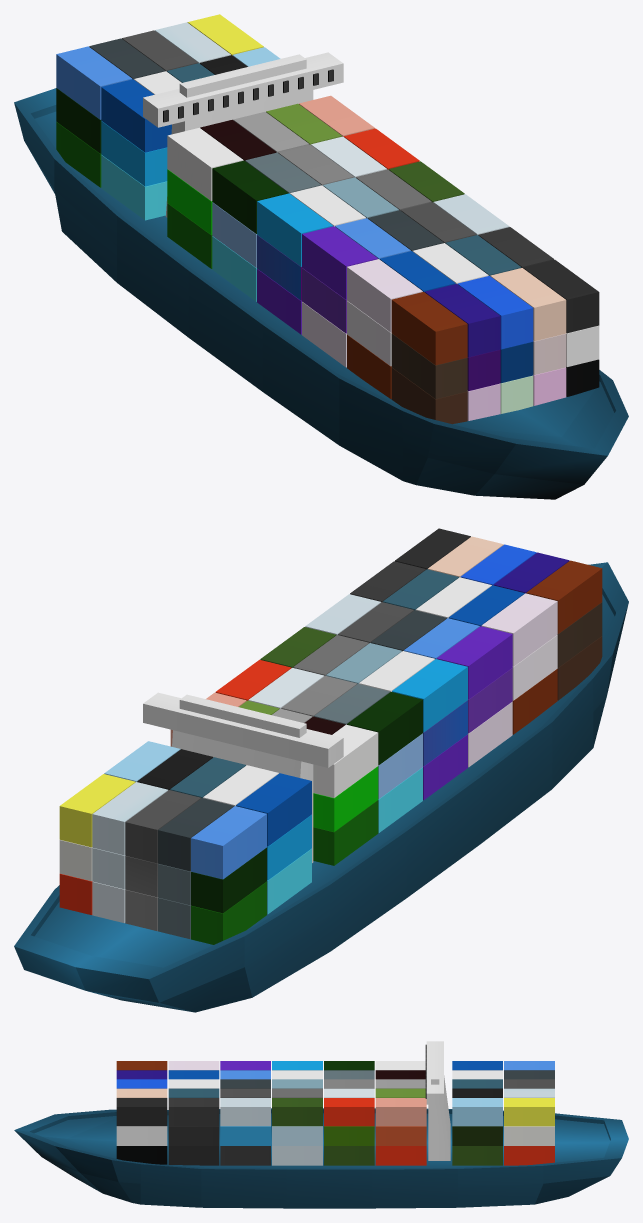
The model's file is Maersc1.glb.
3 renders of one model, top to bottom at view 1: azimuth 30°, elevation 25°; view 2: azimuth 150°, elevation 25°; view 3: azimuth 270°, elevation 25°, orthographic. The views are drawn at different scales.
Visible parts, largest first — view 1: Cube.003, Cube, Cube.004, Cube.001; view 2: Cube.003, Cube, Cube.004, Cube.001; view 3: Cube.003, Cube, Cube.004, Cube.001.
Part boxes in pixels (x1=…): Cube.003: x1=167, y1=95, x2=599, y2=424; Cube: x1=14, y1=88, x2=628, y2=499; Cube.004: x1=56, y1=14, x2=280, y2=220; Cube.001: x1=143, y1=52, x2=343, y2=217; Cube.003: x1=170, y1=528, x2=602, y2=865; Cube: x1=14, y1=562, x2=628, y2=1012; Cube.004: x1=59, y1=741, x2=311, y2=944; Cube.001: x1=143, y1=692, x2=343, y2=862; Cube.003: x1=116, y1=1061, x2=426, y2=1165; Cube: x1=14, y1=1108, x2=628, y2=1208; Cube.004: x1=452, y1=1061, x2=554, y2=1165; Cube.001: x1=425, y1=1041, x2=450, y2=1160.
Bounding box in the file's own units: 3.4 × 2.98 × 14.38.
4 materials, 4 textured.
